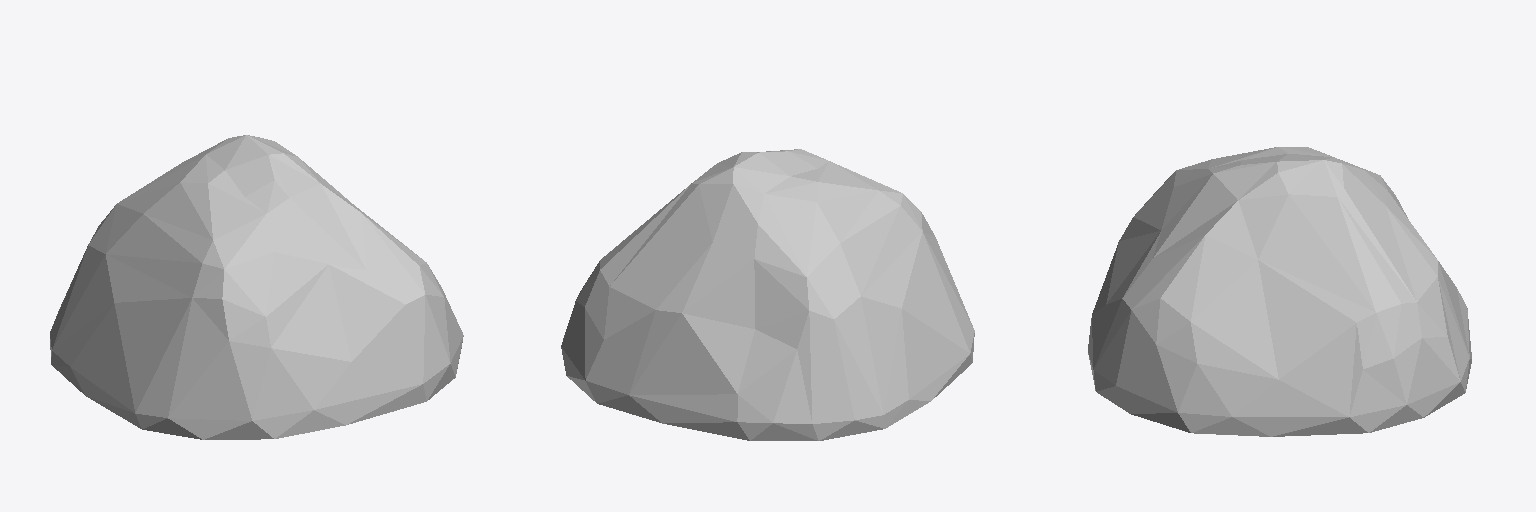
Rendered from small_rock.obj.
3 views of the same model, side by side, from view 1: azimuth 30°, elevation 25°; view 2: azimuth 150°, elevation 25°; view 3: azimuth 270°, elevation 25° (orthographic).
Visible parts, largest first — view 1: Cube; view 2: Cube; view 3: Cube.
Part boxes in pixels (x1,y1,x2,y2): Cube: (50,135,463,439); Cube: (561,149,974,440); Cube: (1088,147,1471,436).
Size of the model in its own units: 0.962 by 0.5623 by 0.9602.